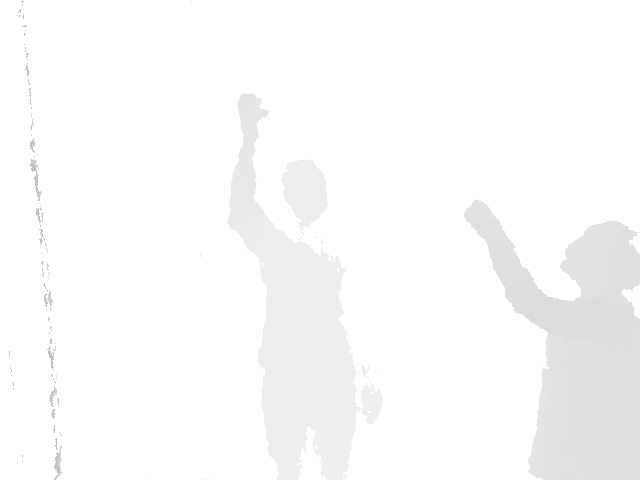hand: (464, 200, 502, 237), (237, 93, 270, 135)
head: (560, 219, 640, 295), (280, 159, 329, 229)
person: (226, 92, 385, 480), (463, 200, 640, 480)
